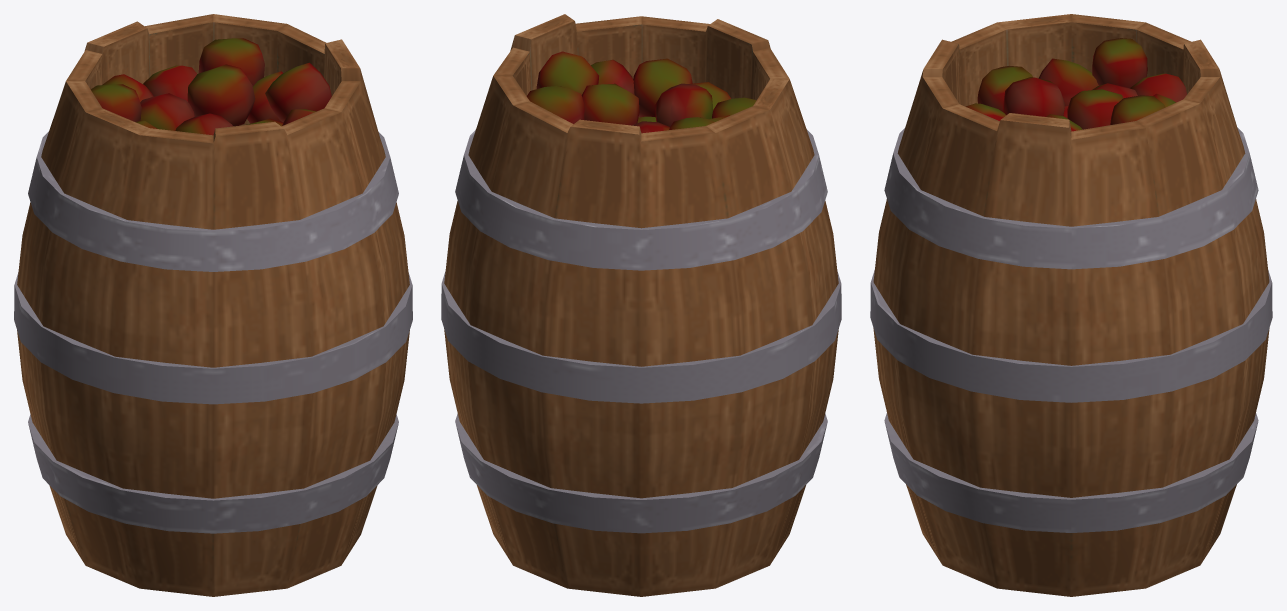
The model's file is Barrel_Apples.glb.
3 views of the same model, side by side, from view 1: azimuth 30°, elevation 25°; view 2: azimuth 150°, elevation 25°; view 3: azimuth 270°, elevation 25° (orthographic).
Visible parts, largest first — view 1: Barrel_Apples; view 2: Barrel_Apples; view 3: Barrel_Apples.
Boxes of the visible parts, x1=… form: Barrel_Apples: x1=14, y1=14, x2=412, y2=596; Barrel_Apples: x1=441, y1=14, x2=841, y2=596; Barrel_Apples: x1=870, y1=14, x2=1272, y2=596.
Size of the model in its own units: 0.698 by 0.898 by 0.698.
3 materials, 3 textured.
